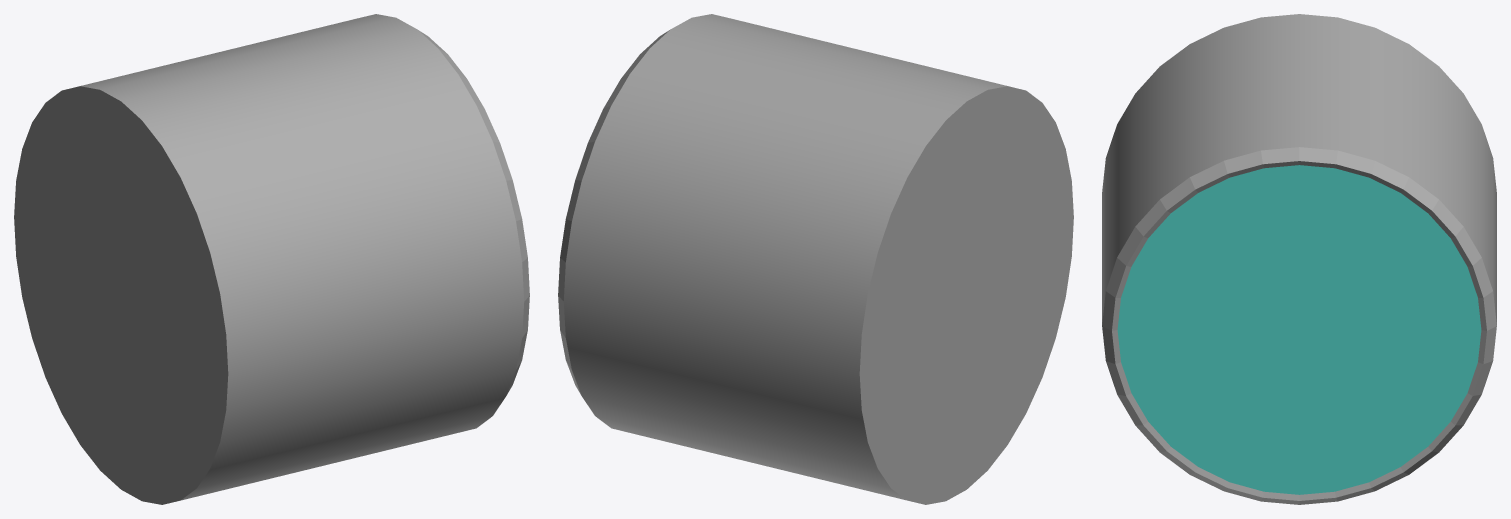
Rendered from RoundThingnMenu.fbx.
3 views of the same model, side by side, from view 1: azimuth 30°, elevation 25°; view 2: azimuth 150°, elevation 25°; view 3: azimuth 270°, elevation 25° (orthographic). The views are drawn at different scales.
Parts seen in each view (by area): view 1: pCylinder16; view 2: pCylinder16; view 3: pCylinder16.
Boxes of the visible parts, x1,y1,x2,y2 form: pCylinder16: [14, 14, 529, 504]; pCylinder16: [558, 14, 1073, 504]; pCylinder16: [1102, 14, 1496, 504].
Bounding box in the file's own units: 59.08 × 71.41 × 71.41.
